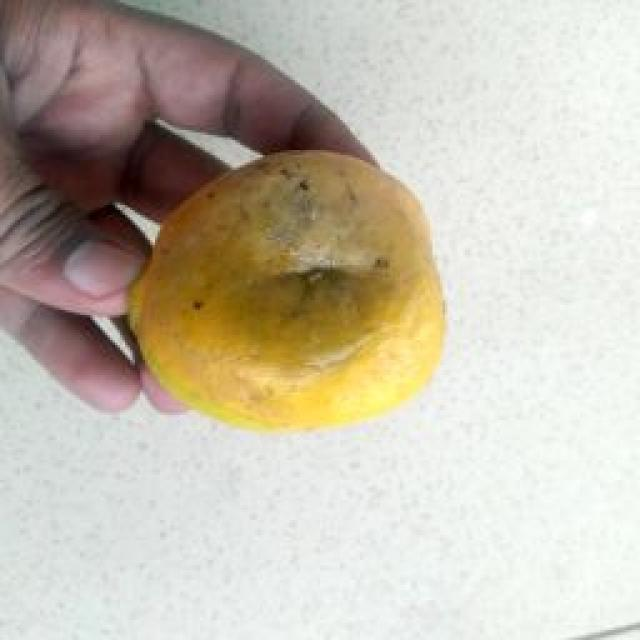Bad_Orange: (129, 151, 444, 428)
